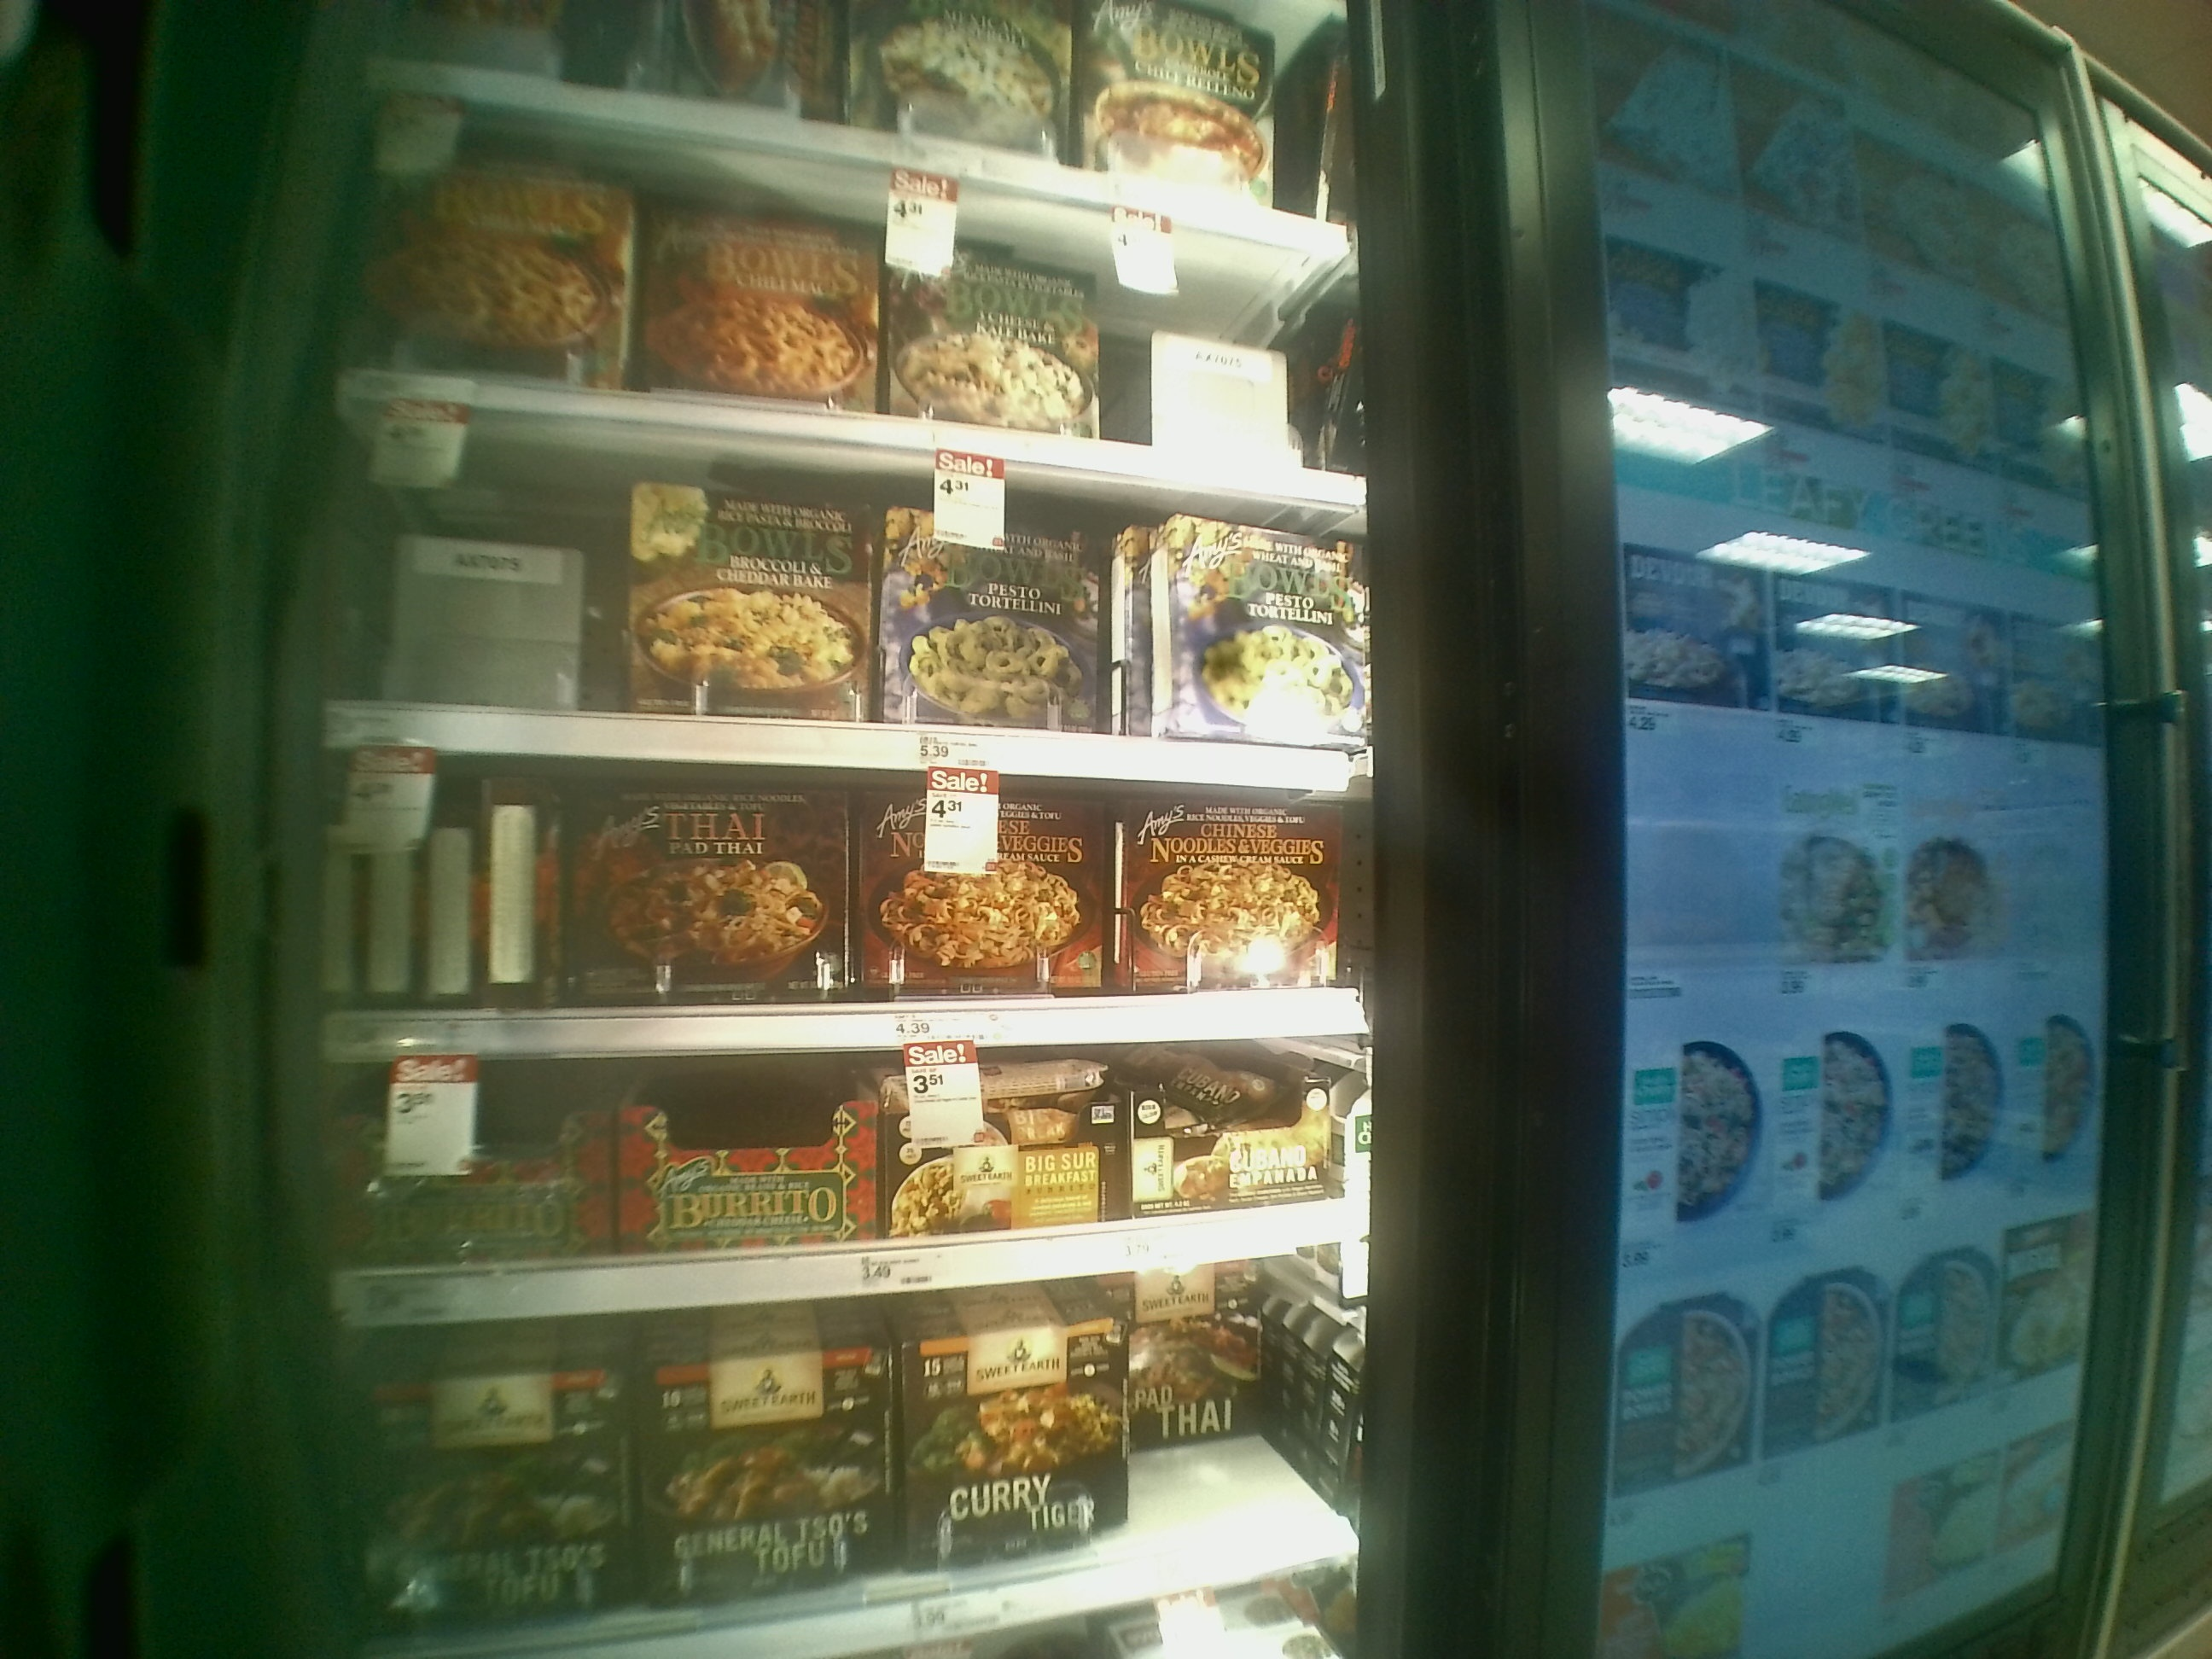shelf: (317, 427, 1367, 784), (315, 760, 1366, 1026), (340, 1039, 1364, 1293)
